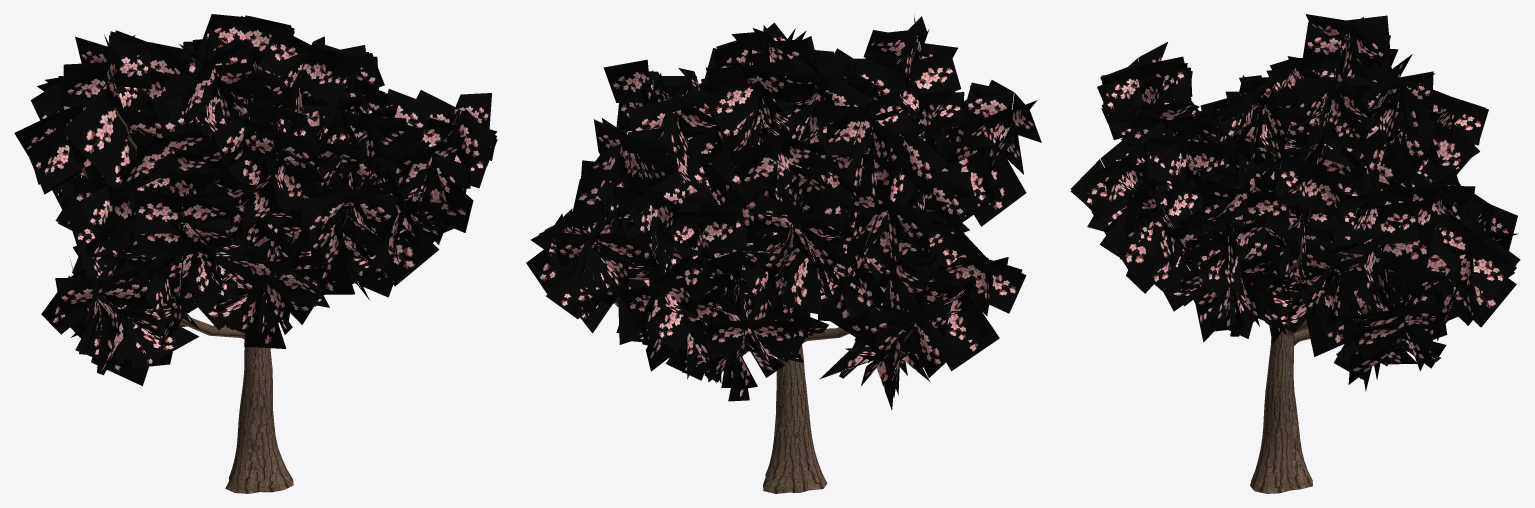
The model's file is sakura_tree_01.glb.
3 renders of one model, left to right at view 1: azimuth 30°, elevation 25°; view 2: azimuth 150°, elevation 25°; view 3: azimuth 270°, elevation 25°, orthographic. The views are drawn at different scales.
Visible parts, largest first — view 1: Sakura; view 2: Sakura; view 3: Sakura.
Boxes of the visible parts, <box> form: Sakura: <box>14,14,497,493</box>; Sakura: <box>526,14,1041,493</box>; Sakura: <box>1070,14,1520,493</box>.
Size of the model in its own units: 0.4036 by 0.4172 by 0.4016.
Materials: 2 (2 with a texture image).
